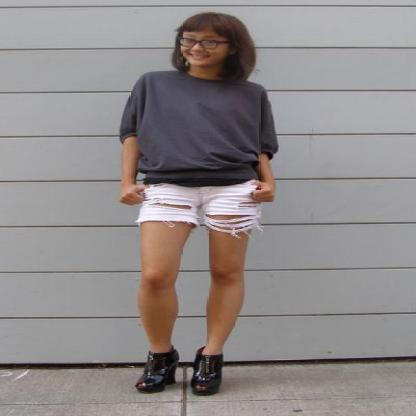shirt: (112, 70, 286, 186)
shoe: (137, 347, 236, 395)
shorts: (138, 180, 266, 236)
